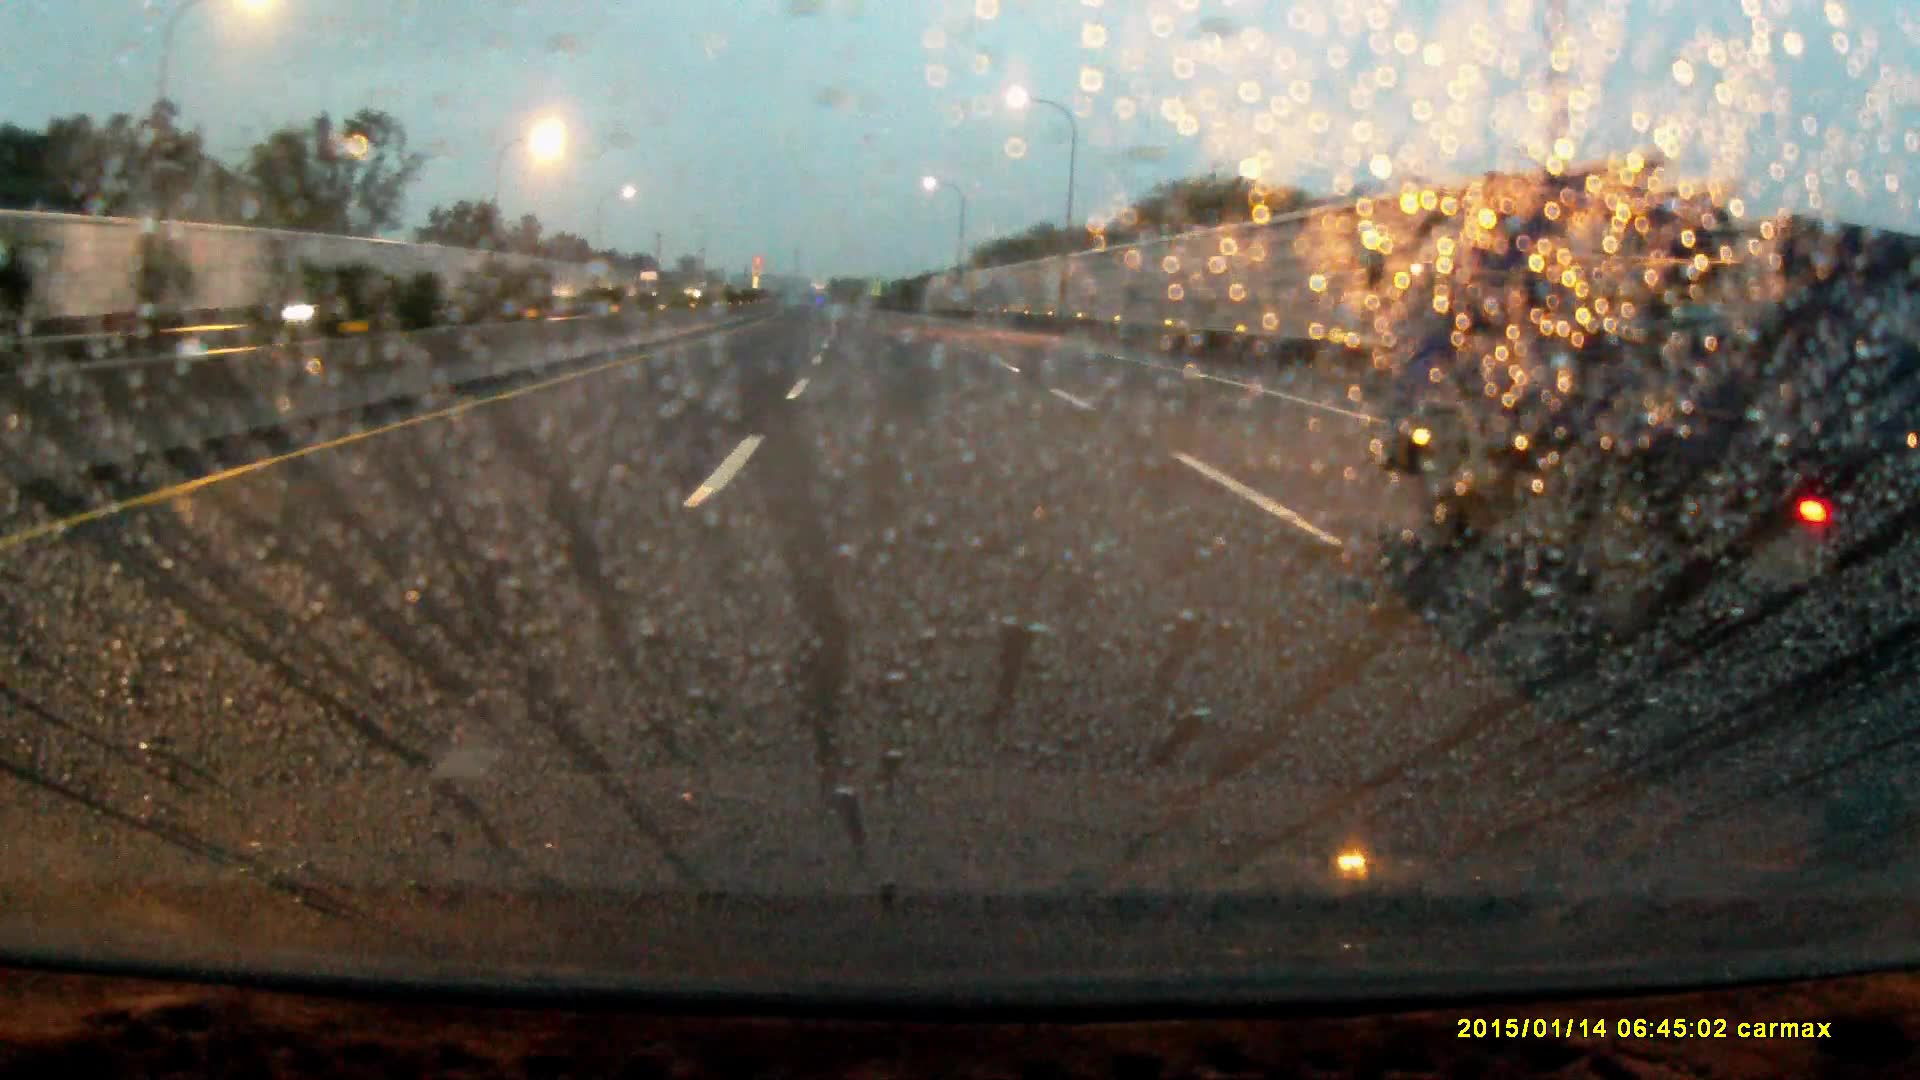vehicle: (1367, 177, 1920, 621), (286, 266, 405, 335), (640, 270, 666, 301)
